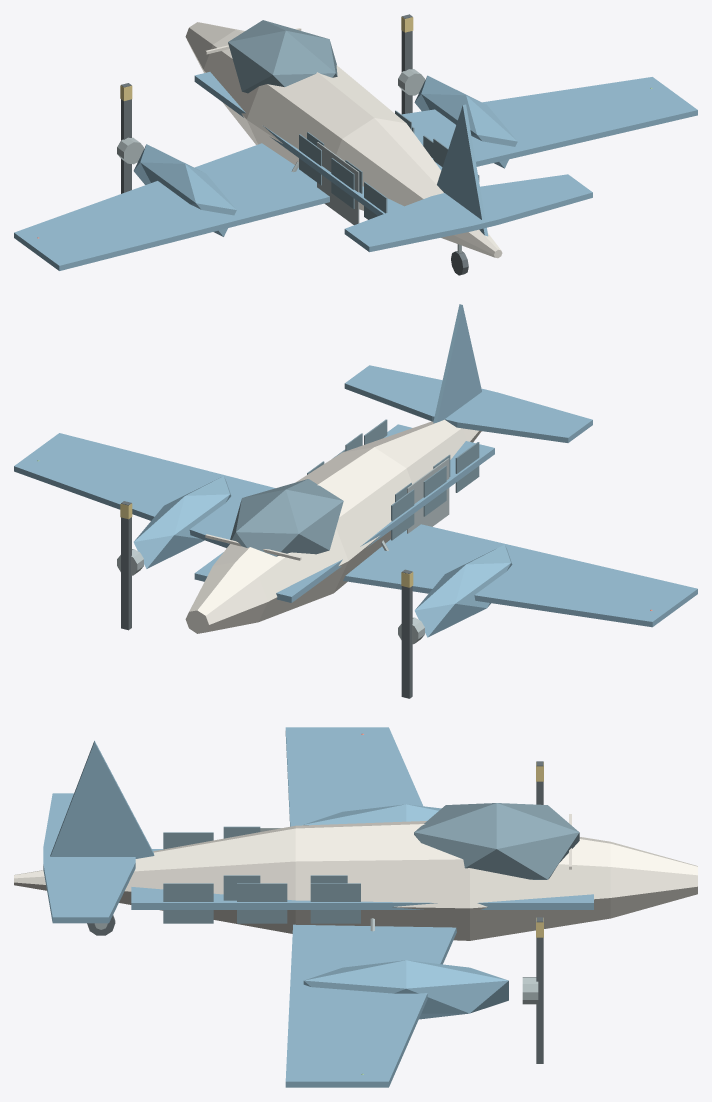
The model's file is tour_airliner.glb.
The picture shows the model from 3 angles, top to bottom: view 1: azimuth 30°, elevation 25°; view 2: azimuth 150°, elevation 25°; view 3: azimuth 270°, elevation 25°; orthographic projection. The views are drawn at different scales.
Parts seen in each view (by area): view 1: tour_airliner__main_wings, tour_airliner__faceted_fuselage, tour_airliner__tailplane, tour_airliner__cockpit_canopy, tour_airliner__engine_nacelle, tour_airliner__engine_nacelle.001, tour_airliner__vertical_tail, tour_airliner__signature_stripe, tour_airliner__cargo_door, tour_airliner__Propeller_blades, tour_airliner__Propeller_blades.001, tour_airliner__panorama_window.002 (+4 smaller); view 2: tour_airliner__main_wings, tour_airliner__faceted_fuselage, tour_airliner__tailplane, tour_airliner__cockpit_canopy, tour_airliner__engine_nacelle, tour_airliner__engine_nacelle.001, tour_airliner__vertical_tail, tour_airliner__signature_stripe, tour_airliner__Propeller_blades, tour_airliner__Propeller_blades.001, tour_airliner__cargo_door, tour_airliner__panorama_window (+2 smaller); view 3: tour_airliner__faceted_fuselage, tour_airliner__main_wings, tour_airliner__cockpit_canopy, tour_airliner__engine_nacelle.001, tour_airliner__vertical_tail, tour_airliner__tailplane, tour_airliner__signature_stripe, tour_airliner__engine_nacelle, tour_airliner__panorama_window.001, tour_airliner__panorama_window.003, tour_airliner__panorama_window.005, tour_airliner__Propeller_blades.001 (+2 smaller).
Boxes of the visible parts, left/top/right/bottom form: tour_airliner__main_wings: left=14, top=77, right=697, bottom=270; tour_airliner__faceted_fuselage: left=185, top=22, right=502, bottom=258; tour_airliner__tailplane: left=344, top=174, right=592, bottom=252; tour_airliner__cockpit_canopy: left=228, top=20, right=337, bottom=93; tour_airliner__engine_nacelle: left=133, top=144, right=236, bottom=236; tour_airliner__engine_nacelle.001: left=414, top=75, right=517, bottom=168; tour_airliner__vertical_tail: left=437, top=104, right=488, bottom=236; tour_airliner__signature_stripe: left=194, top=72, right=442, bottom=215; tour_airliner__cargo_door: left=317, top=142, right=359, bottom=224; tour_airliner__Propeller_blades: left=121, top=83, right=131, bottom=193; tour_airliner__Propeller_blades.001: left=401, top=14, right=412, bottom=114; tour_airliner__panorama_window.002: left=331, top=158, right=354, bottom=208; tour_airliner__main_wings: left=14, top=433, right=697, bottom=627; tour_airliner__faceted_fuselage: left=185, top=419, right=481, bottom=633; tour_airliner__tailplane: left=344, top=365, right=592, bottom=442; tour_airliner__cockpit_canopy: left=228, top=479, right=343, bottom=556; tour_airliner__engine_nacelle: left=414, top=544, right=512, bottom=637; tour_airliner__engine_nacelle.001: left=133, top=476, right=231, bottom=568; tour_airliner__vertical_tail: left=433, top=304, right=481, bottom=423; tour_airliner__signature_stripe: left=194, top=424, right=494, bottom=602; tour_airliner__Propeller_blades: left=401, top=569, right=412, bottom=698; tour_airliner__Propeller_blades.001: left=121, top=501, right=131, bottom=630; tour_airliner__cargo_door: left=407, top=458, right=449, bottom=533; tour_airliner__panorama_window: left=455, top=442, right=479, bottom=492; tour_airliner__faceted_fuselage: left=14, top=821, right=697, bottom=940; tour_airliner__main_wings: left=285, top=727, right=456, bottom=1087; tour_airliner__cockpit_canopy: left=414, top=803, right=579, bottom=879; tour_airliner__engine_nacelle.001: left=303, top=960, right=508, bottom=1019; tour_airliner__vertical_tail: left=50, top=740, right=154, bottom=858; tour_airliner__tailplane: left=43, top=793, right=135, bottom=923; tour_airliner__signature_stripe: left=131, top=849, right=593, bottom=909; tour_airliner__engine_nacelle: left=304, top=804, right=441, bottom=825; tour_airliner__panorama_window.001: left=163, top=883, right=213, bottom=923; tour_airliner__panorama_window.003: left=237, top=883, right=287, bottom=923; tour_airliner__panorama_window.005: left=310, top=883, right=360, bottom=923; tour_airliner__Propeller_blades.001: left=536, top=917, right=543, bottom=1063.
Size of the model in its own units: 25 by 8.01 by 20.4.
